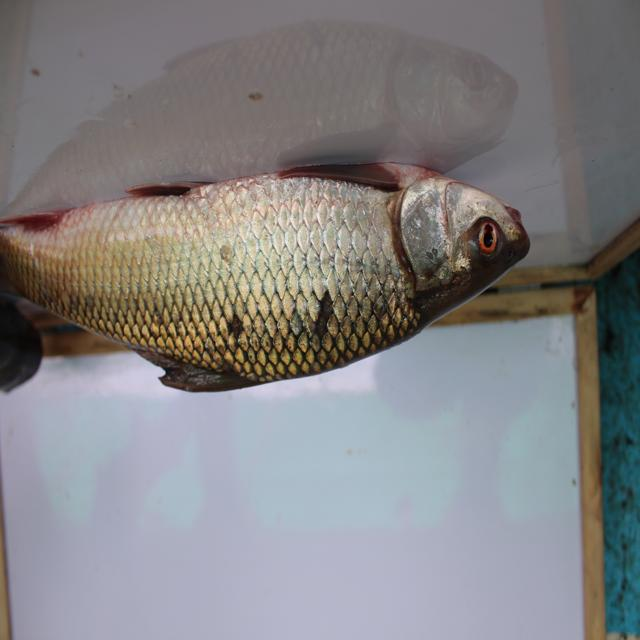Mori: (10, 151, 534, 397)
